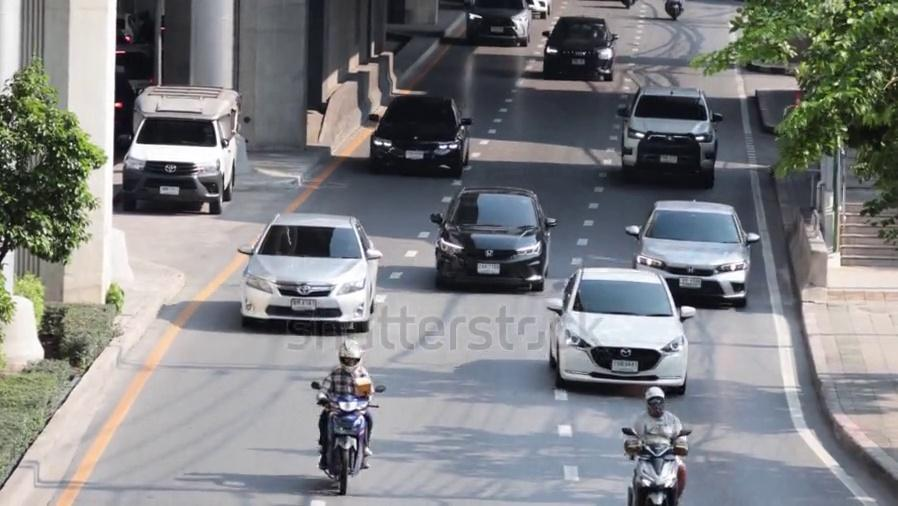rider: (314, 338, 376, 471), (624, 385, 689, 502)
with_helmate: (336, 341, 363, 372), (644, 389, 666, 417)
